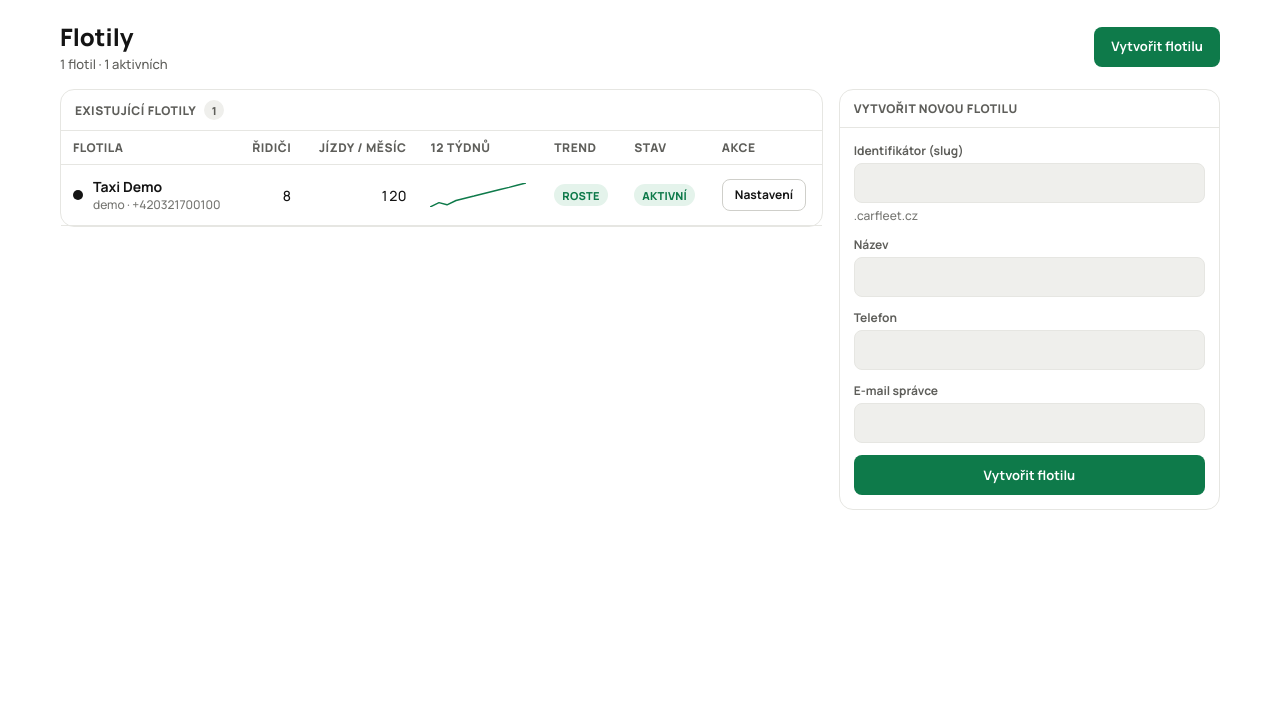
AdminFleetsPage (UC-021 WI-7) › creates a fleet and shows the one-time password once with a copy button
The image size is (1280, 720).
Check: the text "Taxi Demo" is shown, box x1=93 y1=177 x2=162 y2=196
Type "kolin" into the field labelled "Identifikátor (slug)".
click(1029, 183); type("kolin")  # box x1=865 y1=164 x2=1194 y2=202
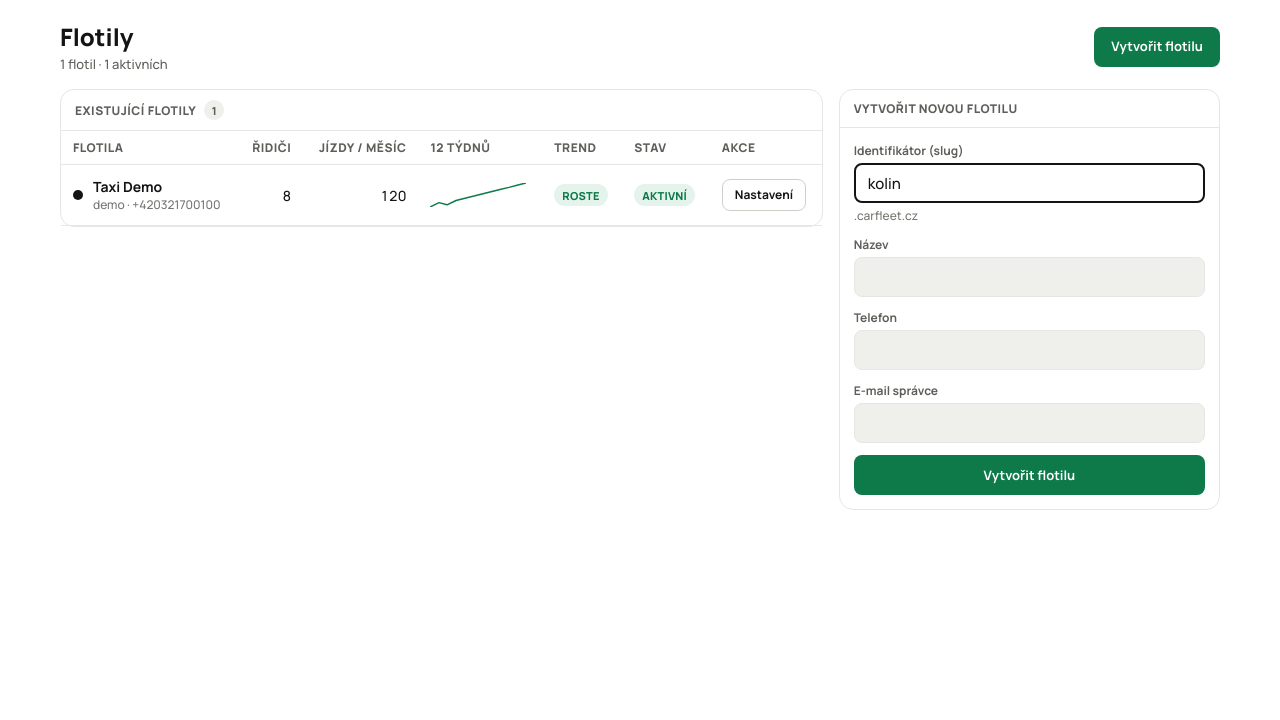
Type "Taxi Kolín" into the field labelled "Název".
click(1029, 277); type("Taxi Kolín")  # box x1=865 y1=258 x2=1194 y2=296
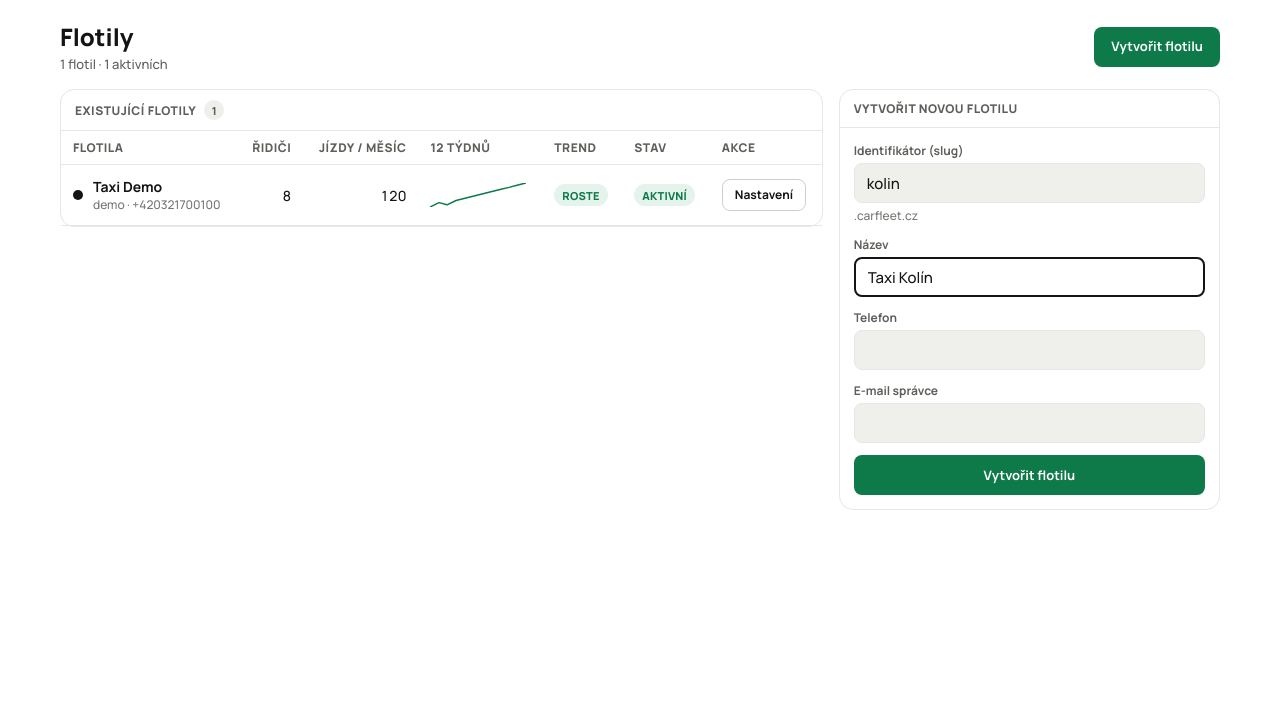
Type "+420321123456" into the field labelled "Telefon".
click(1029, 350); type("+420321123456")  # box x1=865 y1=331 x2=1194 y2=369
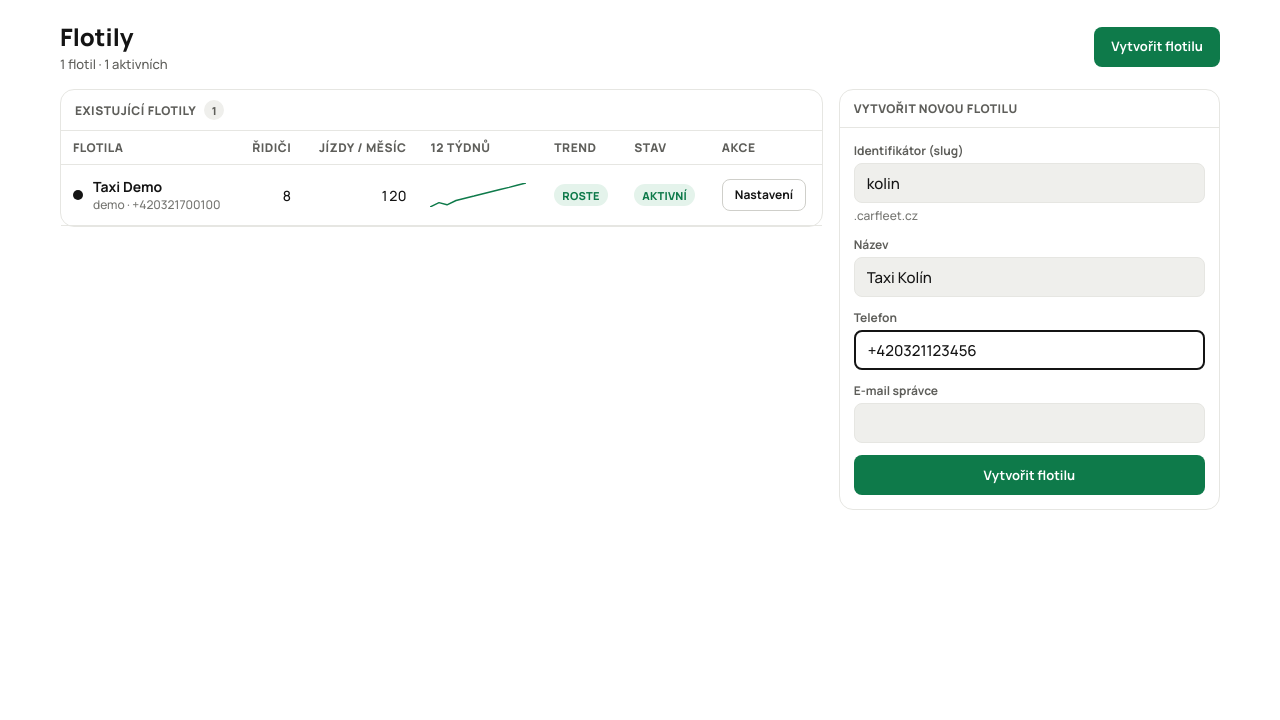
Type "admin@kolin.local" into the field labelled "E-mail správce".
click(1029, 423); type("admin@kolin.local")  # box x1=865 y1=404 x2=1194 y2=442
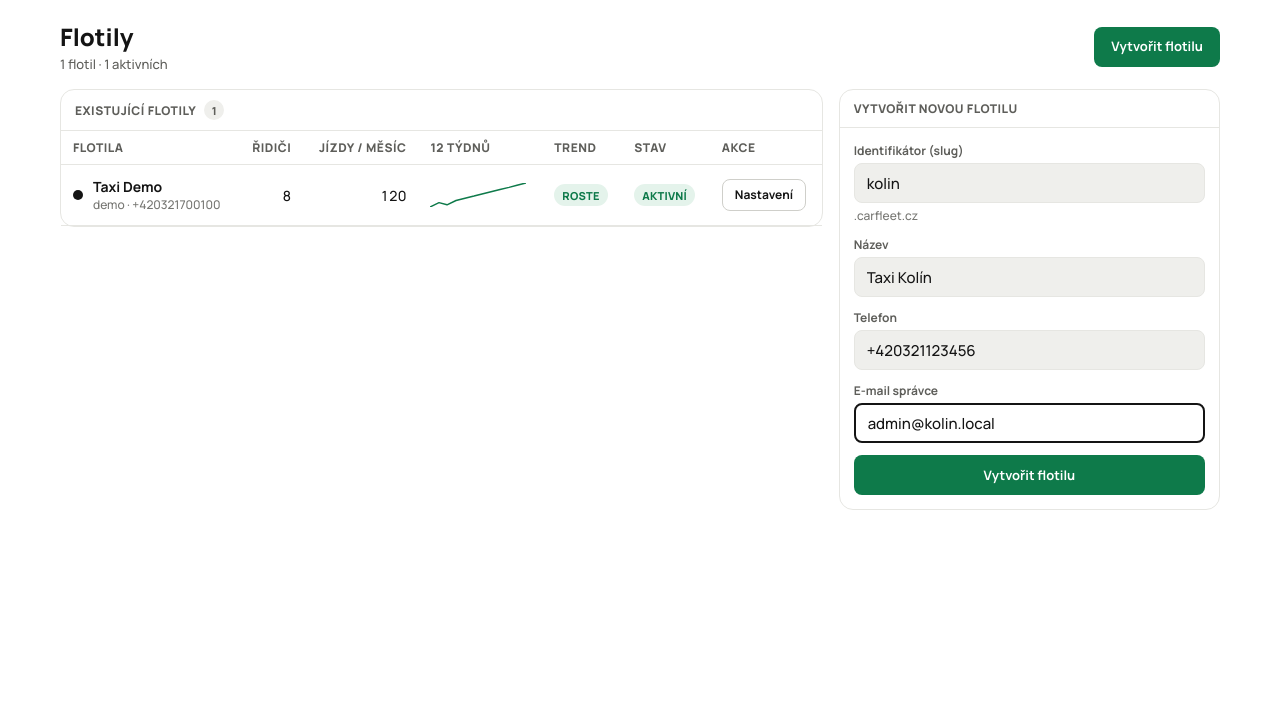
Click the button "Vytvořit flotilu" below "E-mail správce".
click(1029, 475)  # box x1=854 y1=455 x2=1205 y2=495
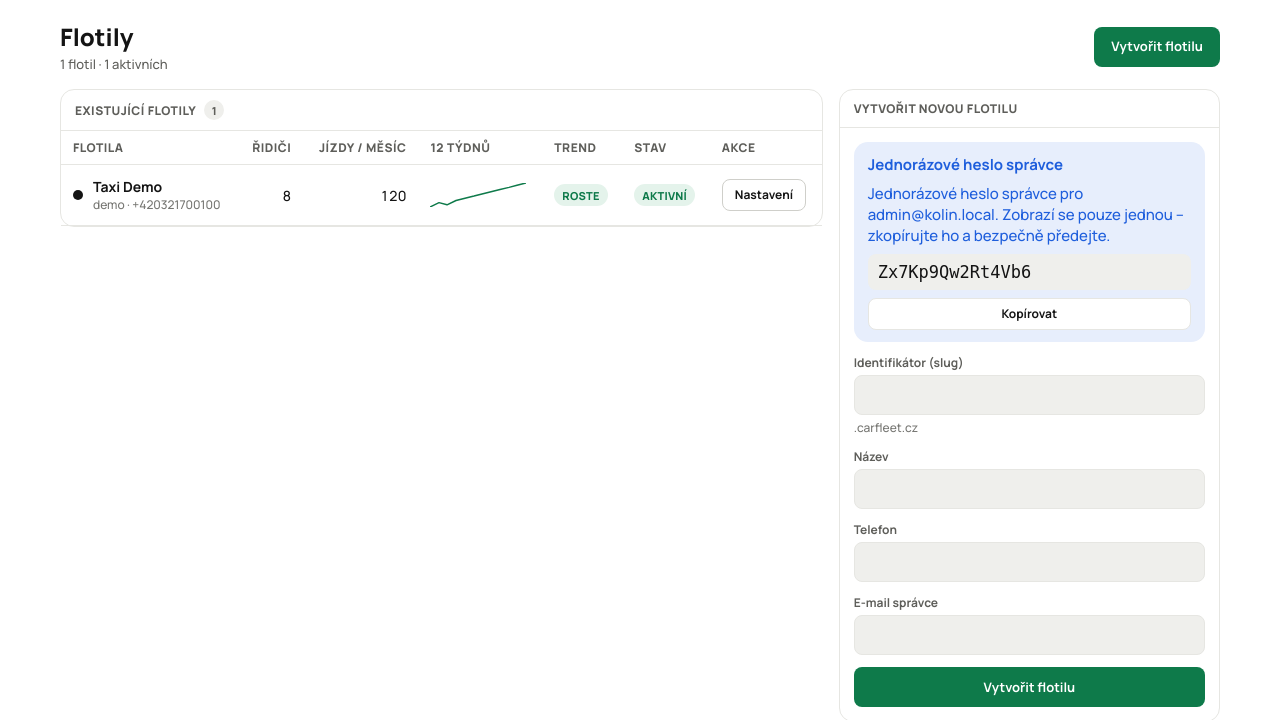
Check: the text with test id "one-time-password" reads "Zx7Kp9Qw2Rt4Vb6", box x1=878 y1=262 x2=1031 y2=282
Check: the button "Kopírovat" is shown, box x1=868 y1=298 x2=1191 y2=330
